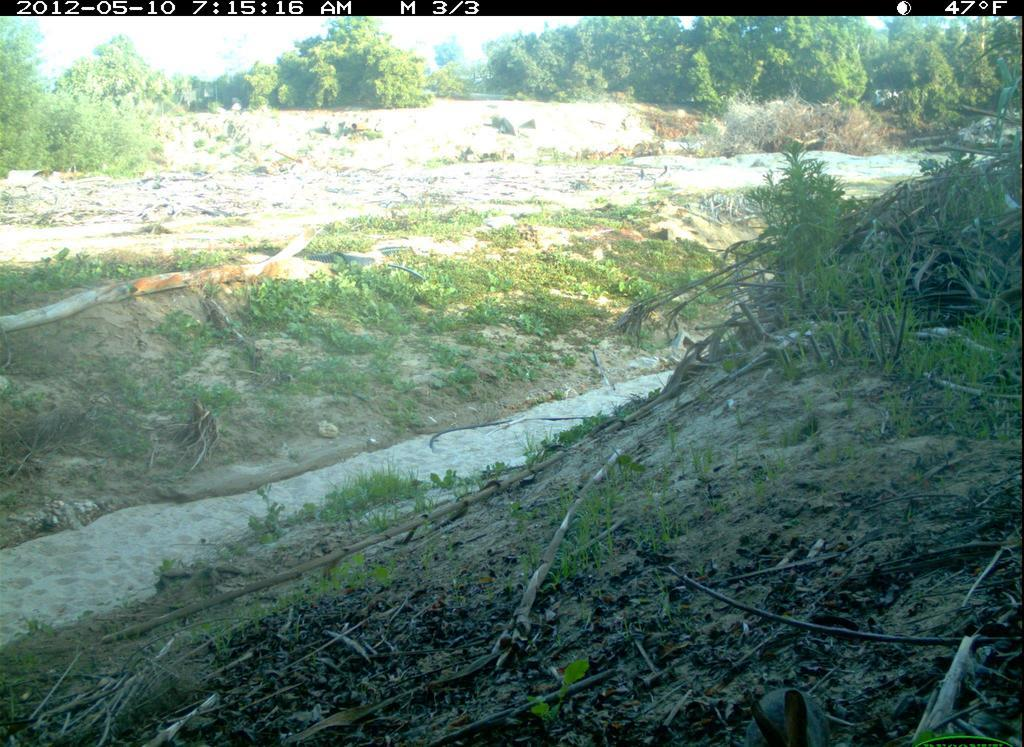rabbit: (734, 683, 838, 747)
